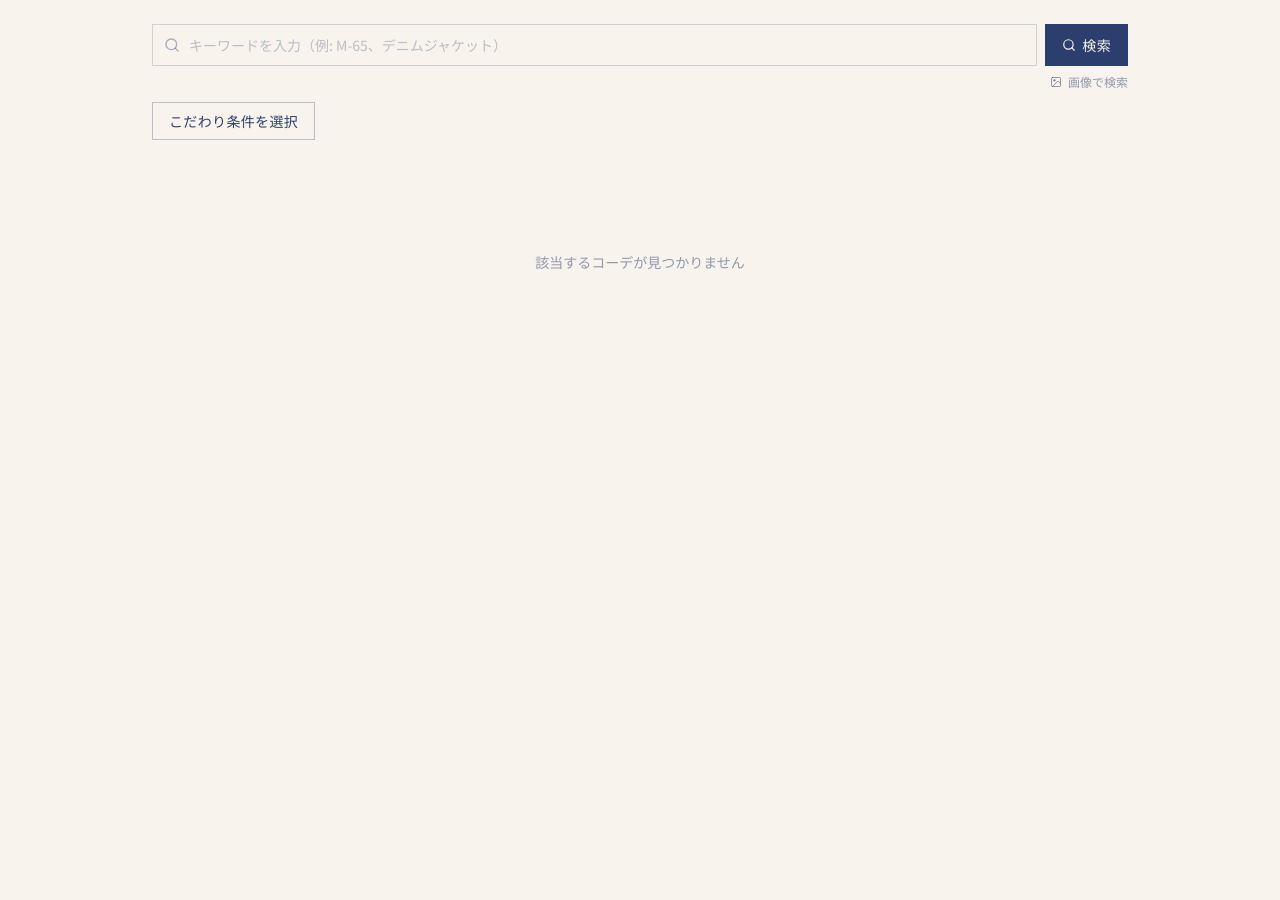
Test: SearchPage — 画像検索シート › 『画像で検索』ボタンを押すとシートが開く
The width and height of the screenshot is (1280, 900).
Click the button "画像で検索" at [1089, 82], box x1=1050 y1=74 x2=1128 y2=90
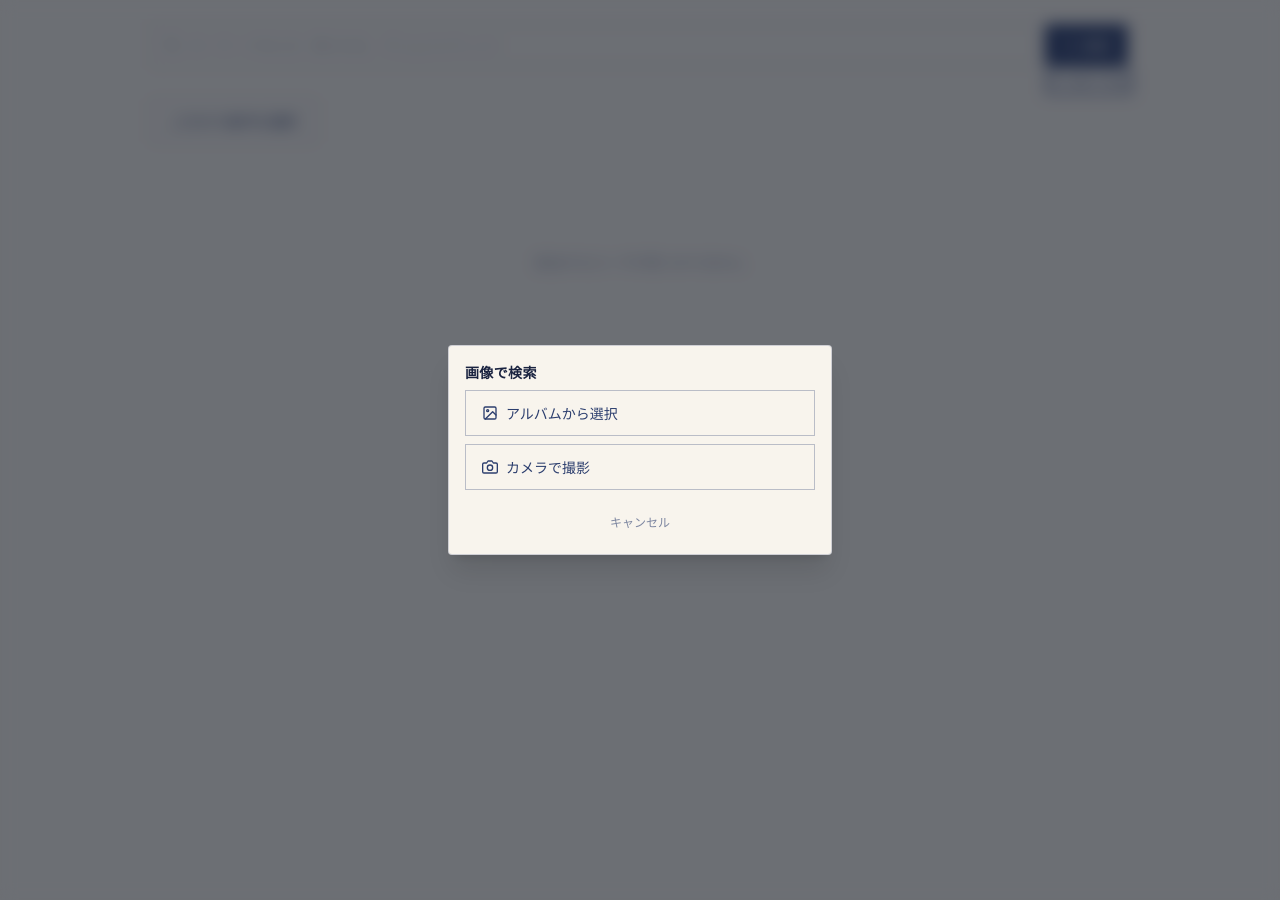
Expected: the dialog is shown
Expected: the button "アルバムから選択" is shown, x1=465 y1=390 x2=815 y2=436
Expected: the button "カメラで撮影" is shown, x1=465 y1=444 x2=815 y2=490
